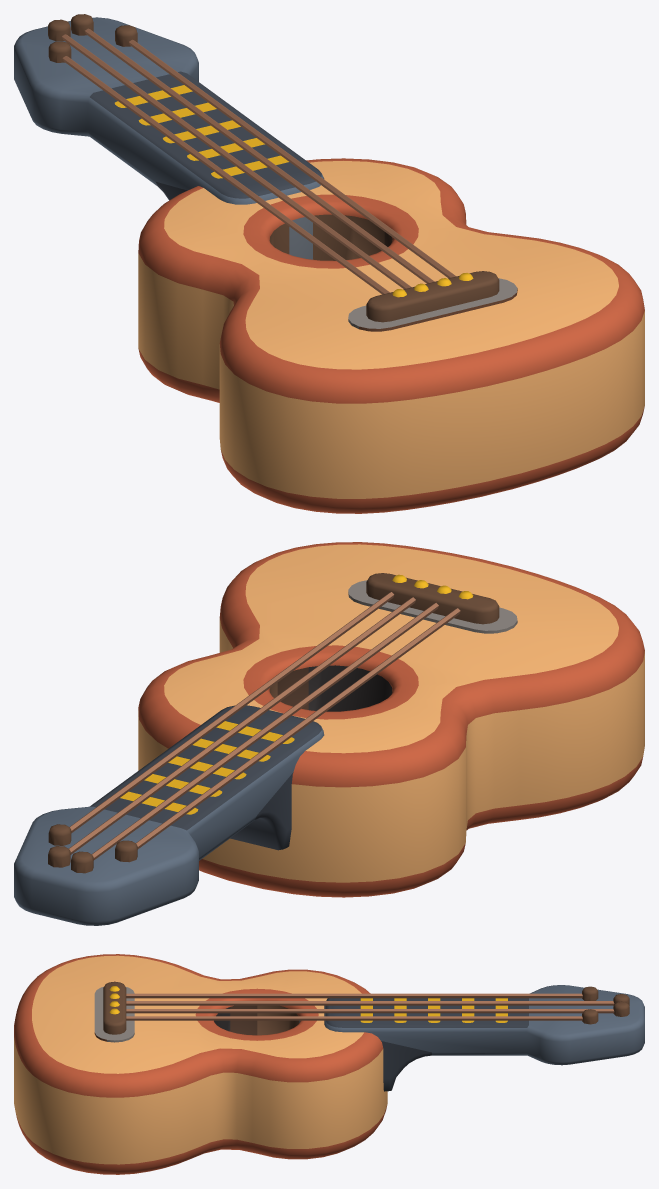
Rendered from violao_pacote.glb.
3 renders of one model, top to bottom at view 1: azimuth 30°, elevation 25°; view 2: azimuth 150°, elevation 25°; view 3: azimuth 270°, elevation 25°, orthographic. The views are drawn at different scales.
Parts seen in each view (by area): view 1: violao_pacote; view 2: violao_pacote; view 3: violao_pacote.
Part boxes in pixels (x1,y1,x2,y2): violao_pacote: (14, 14, 644, 513); violao_pacote: (14, 542, 644, 925); violao_pacote: (14, 954, 644, 1174).
Bounding box in the file's own units: 0.4513 × 0.1823 × 0.9025.
Materials: 1 (1 with a texture image).
